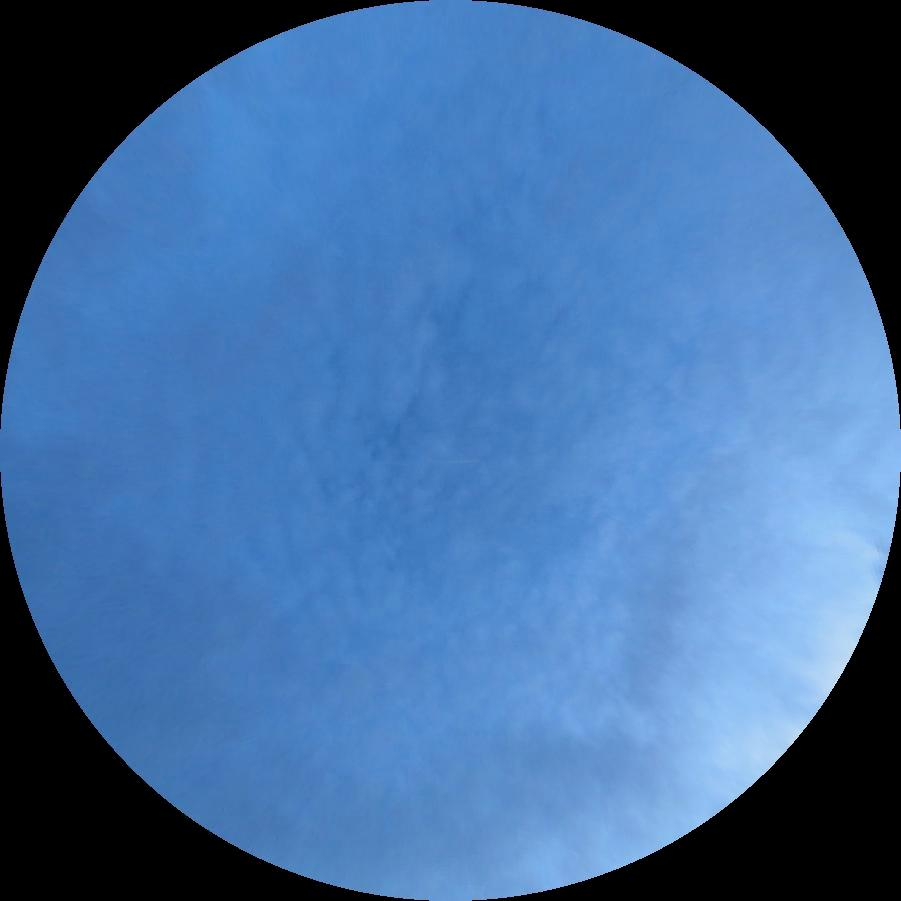contrail young: (394, 458, 482, 464)
